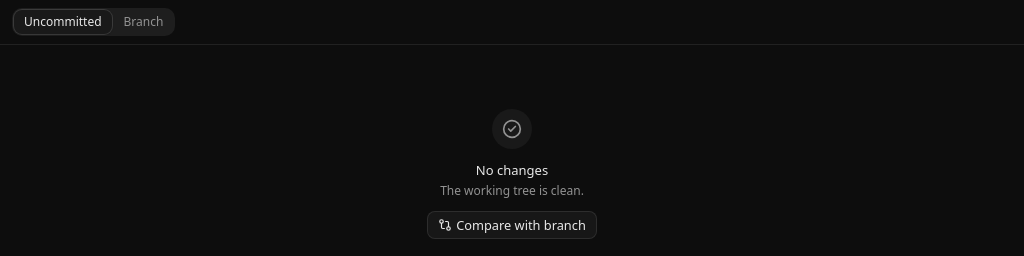
Test: ChangesView › without a default branch the compare button names no base
Click the button "Compare with branch" at (512, 225), box [427,211,597,239]
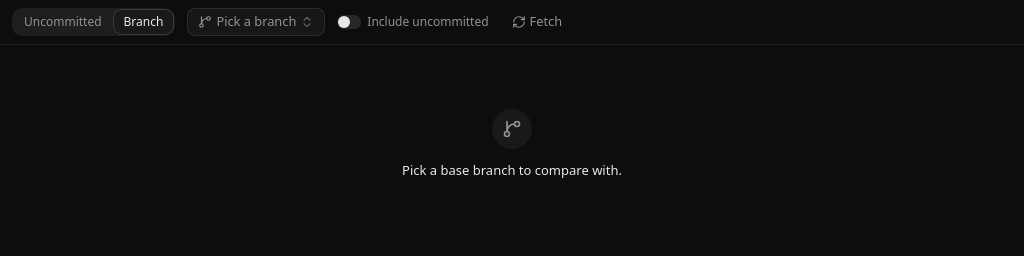
Expected: the text "Pick a base branch to compare with." is shown, [402,161,622,179]
